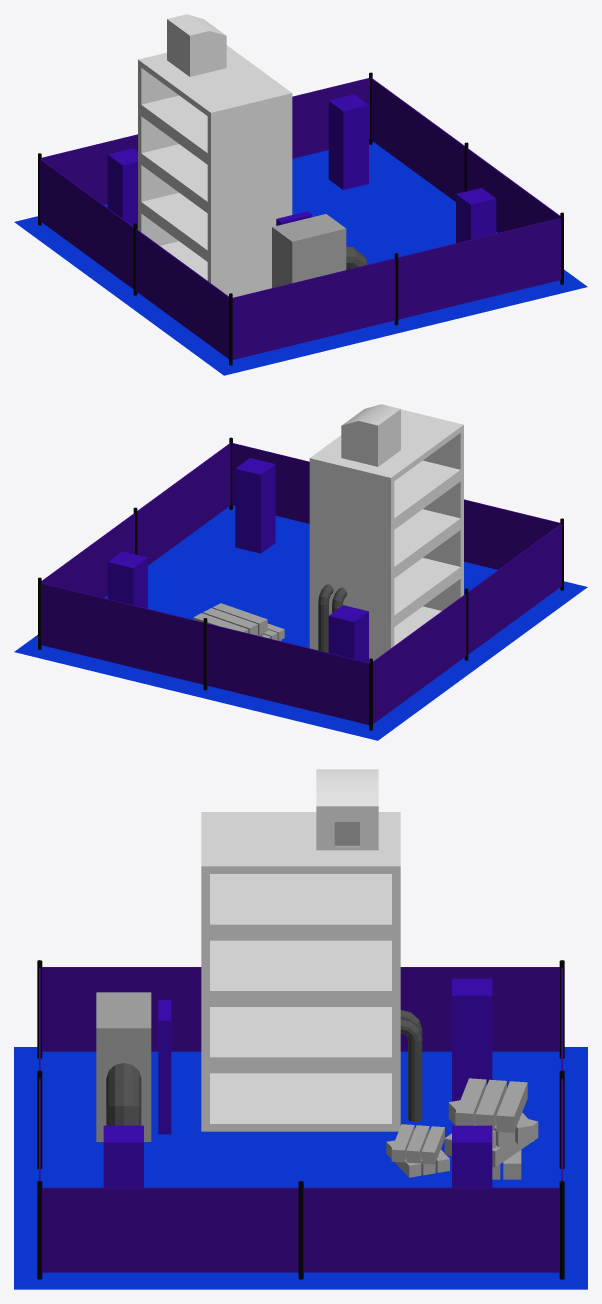
Rendered from 55_blue.fbx.
The picture shows the model from 3 angles, top to bottom: view 1: azimuth 30°, elevation 25°; view 2: azimuth 150°, elevation 25°; view 3: azimuth 270°, elevation 25°; orthographic projection. The views are drawn at different scales.
Visible parts, largest first — view 1: pCube229, five_five4, pCube228, pCube227, pCube222, pCube217, pCube225, pCube233, pCube239, pCube226, pCube241, pCube224 (+3 smaller); view 2: pCube229, five_five4, pCube223, pCube224, pCube217, pCube222, pCube226, pCube228, pCube238, pCube225, pCube241, pCube227 (+5 smaller); view 3: pCube229, five_five4, pCube226, pCube225, pCube222, pCube217, pCube233, pCube241, pCube240, pCube239, pCube238, pCylinder44 (+5 smaller).
Boxes of the visible parts, <box> form: pCube229: <box>138,45,292,297</box>; five_five4: <box>14,141,587,375</box>; pCube228: <box>232,258,395,359</box>; pCube227: <box>398,218,560,319</box>; pCube222: <box>40,159,133,289</box>; pCube217: <box>135,229,228,358</box>; pCube225: <box>371,78,464,201</box>; pCube233: <box>272,214,346,287</box>; pCube239: <box>328,94,368,189</box>; pCube226: <box>466,148,560,232</box>; pCube241: <box>167,14,226,76</box>; pCube224: <box>292,78,369,158</box>; pCube229: <box>309,409,463,662</box>; five_five4: <box>14,505,587,740</box>; pCube223: <box>206,623,369,724</box>; pCube224: <box>41,583,203,684</box>; pCube217: <box>468,524,561,654</box>; pCube222: <box>373,594,466,723</box>; pCube226: <box>137,443,230,565</box>; pCube228: <box>464,499,560,569</box>; pCube238: <box>235,458,275,553</box>; pCube225: <box>41,513,134,597</box>; pCube241: <box>341,404,400,466</box>; pCube227: <box>232,443,309,523</box>; pCube229: <box>201,812,400,1131</box>; five_five4: <box>14,1047,587,1289</box>; pCube226: <box>42,1187,298,1272</box>; pCube225: <box>303,1187,559,1272</box>; pCube222: <box>400,967,559,1051</box>; pCube217: <box>42,967,201,1051</box>; pCube233: <box>96,992,151,1141</box>; pCube241: <box>316,769,378,850</box>; pCube240: <box>452,978,492,1101</box>; pCube239: <box>452,1125,492,1187</box>; pCube238: <box>103,1125,143,1187</box>; pCylinder44: <box>106,1063,141,1125</box>.
Bounding box in the file's own units: 5 × 3.16 × 5.
